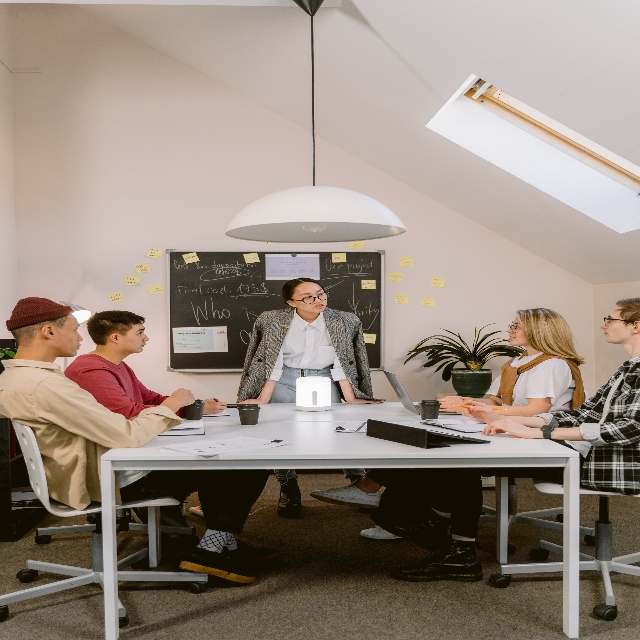Gafas: (290, 291, 330, 304), (603, 314, 631, 325), (507, 322, 523, 333)
Sin_guantes: (481, 414, 532, 437), (460, 398, 492, 423), (436, 391, 463, 413), (202, 392, 227, 414), (171, 387, 196, 407), (237, 396, 261, 406), (351, 397, 385, 404)
